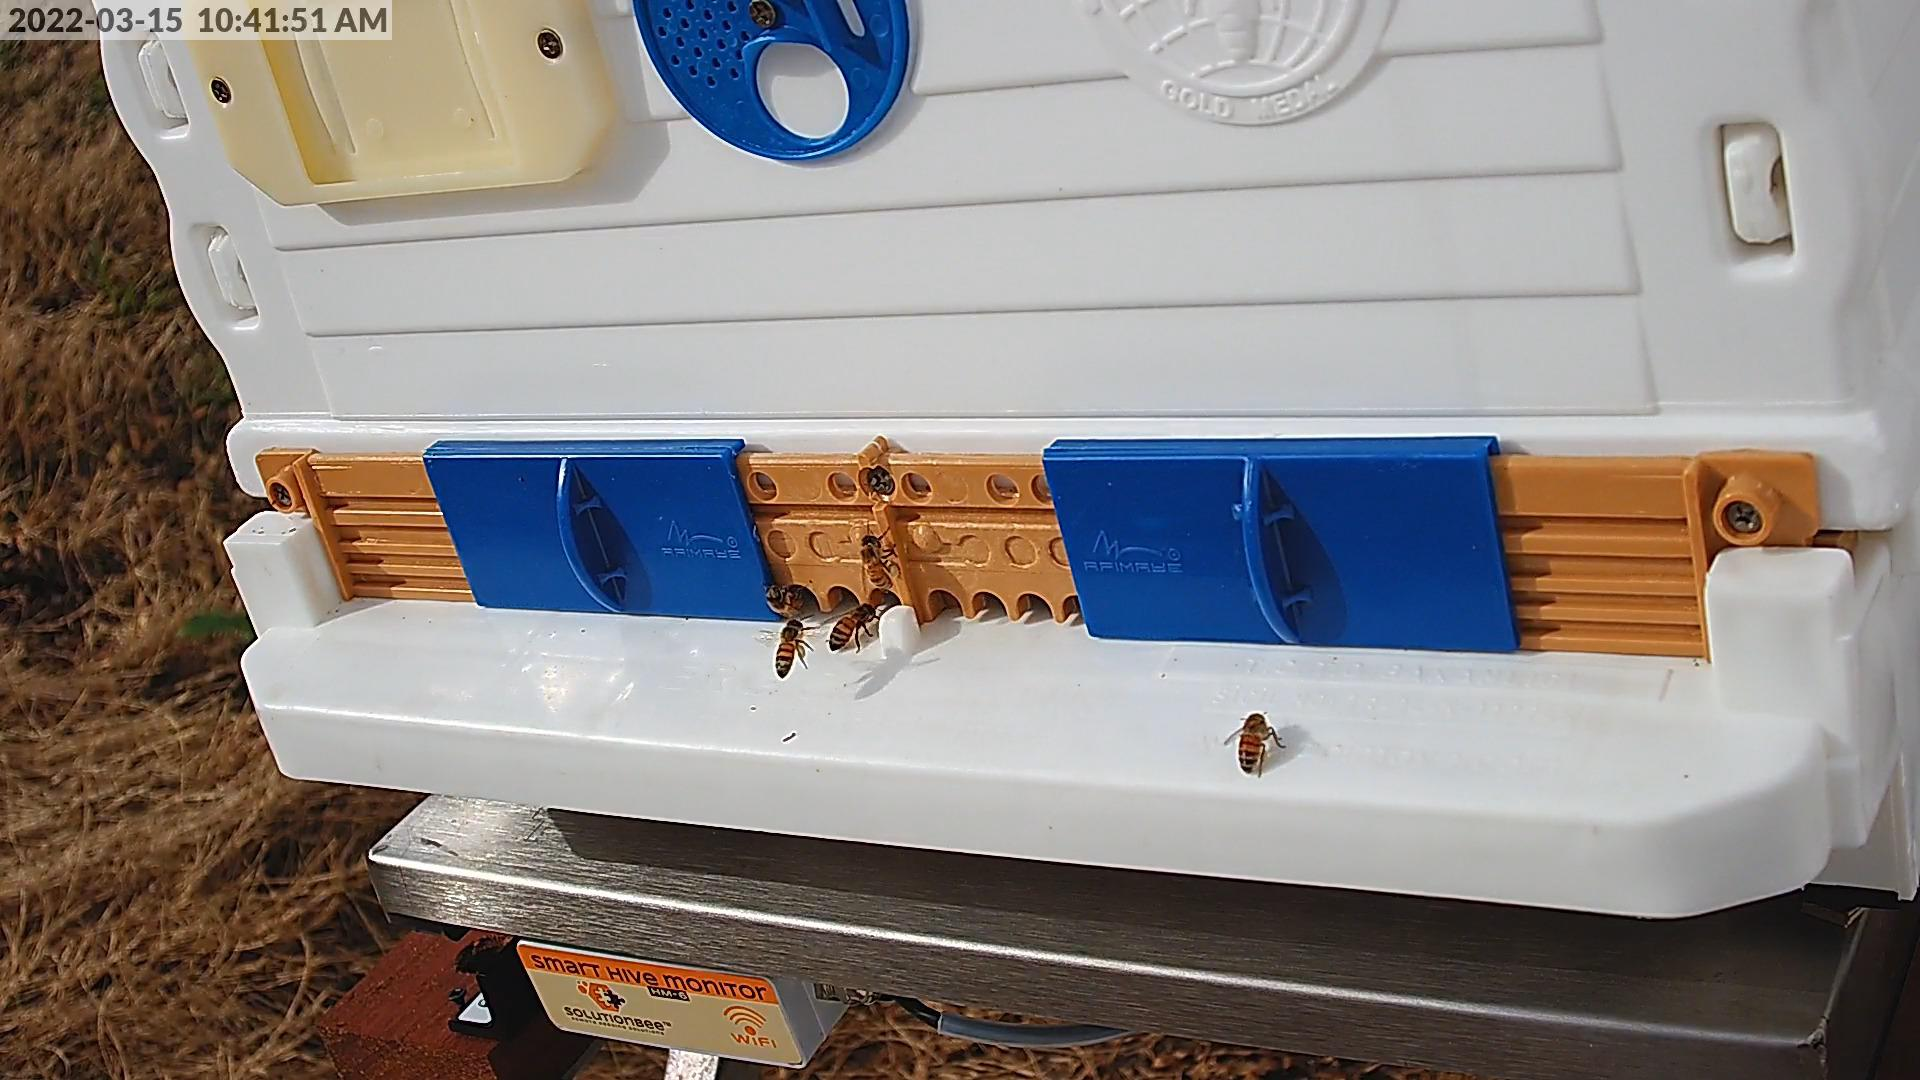bee: (829, 601, 877, 653), (858, 534, 895, 591), (1241, 713, 1267, 771), (765, 587, 818, 615)
pollenbee: (775, 620, 806, 676)
